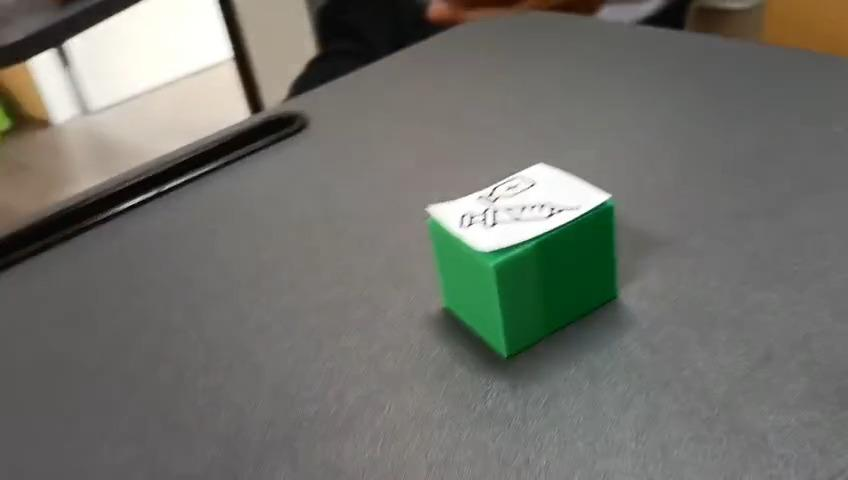antiseptic cream: (423, 160, 619, 360)
